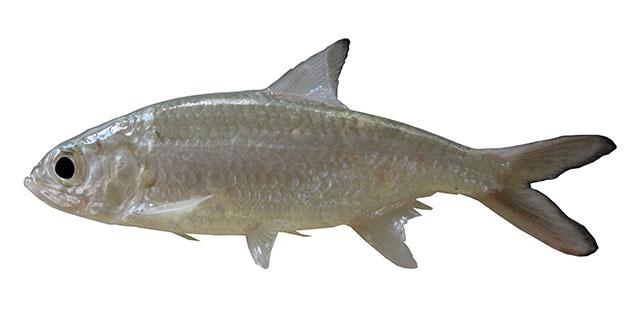Mulut: (12, 153, 68, 219)
Sirip Anal: (354, 196, 440, 274)
Sirip Dada: (137, 192, 217, 250)
Sirip Ekor: (493, 127, 622, 263)
Sirip Perut: (242, 222, 316, 276)
Sirip Punggung: (254, 26, 372, 112)
